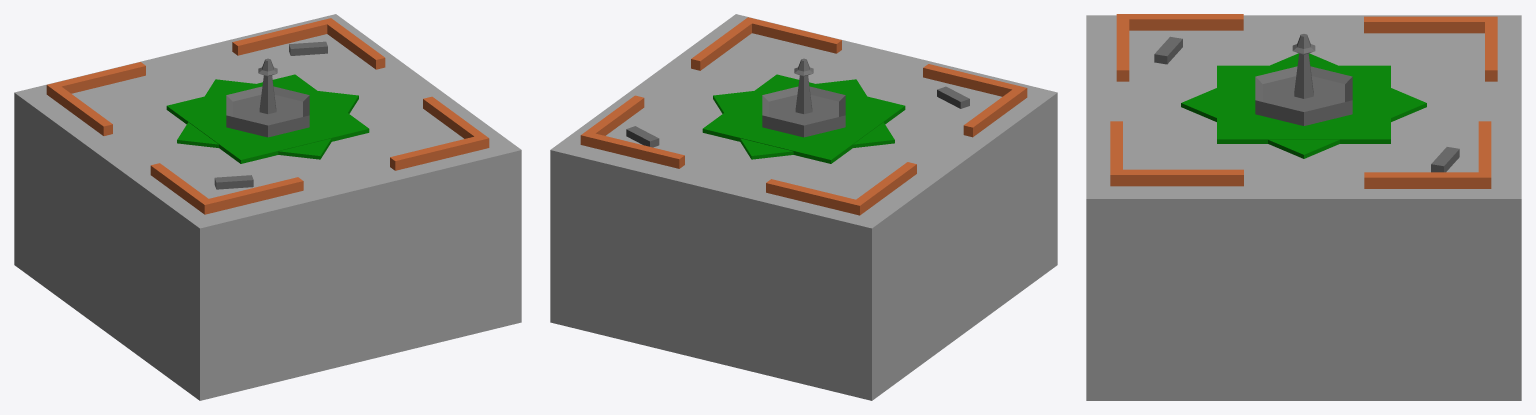
File: Park.fbx
3 views of the same model, side by side, from view 1: azimuth 30°, elevation 25°; view 2: azimuth 150°, elevation 25°; view 3: azimuth 270°, elevation 25° (orthographic). The views are drawn at different scales.
Visible parts, largest first — view 1: pCube79, pCube84, fountain, pCube83, pCube87, pCube82, pCube86, pCube85, pCube89, pCube90; view 2: pCube79, pCube84, fountain, pCube82, pCube86, pCube87, pCube83, pCube85; view 3: pCube79, pCube84, fountain, pCube82, pCube86, pCube87, pCube83, pCube85, pCube89, pCube90.
Part boxes in pixels (x1,y1,x2,y2): pCube79: [14, 14, 521, 400]; pCube84: [166, 74, 369, 163]; fountain: [226, 58, 309, 137]; pCube83: [232, 18, 385, 69]; pCube87: [150, 163, 303, 214]; pCube82: [390, 96, 489, 170]; pCube86: [46, 62, 145, 135]; pCube85: [177, 79, 358, 159]; pCube89: [214, 175, 253, 189]; pCube90: [289, 41, 327, 55]; pCube79: [550, 14, 1057, 400]; pCube84: [702, 74, 905, 163]; fountain: [762, 58, 845, 137]; pCube82: [691, 17, 841, 70]; pCube86: [766, 162, 916, 215]; pCube87: [923, 64, 1027, 137]; pCube83: [580, 95, 684, 168]; pCube85: [713, 79, 894, 159]; pCube79: [1086, 15, 1521, 400]; pCube84: [1217, 65, 1390, 143]; fountain: [1255, 34, 1352, 125]; pCube82: [1110, 121, 1243, 186]; pCube86: [1364, 16, 1497, 81]; pCube87: [1116, 14, 1243, 81]; pCube83: [1364, 121, 1491, 188]; pCube85: [1181, 53, 1426, 158]; pCube89: [1154, 36, 1182, 64]; pCube90: [1431, 147, 1459, 172].
Size of the model in its own units: 1 by 0.6943 by 1.
